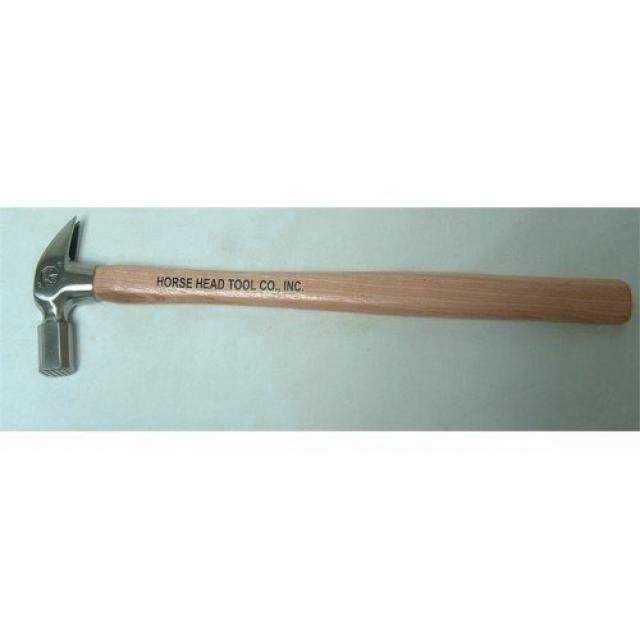hammer: (30, 213, 640, 384)
